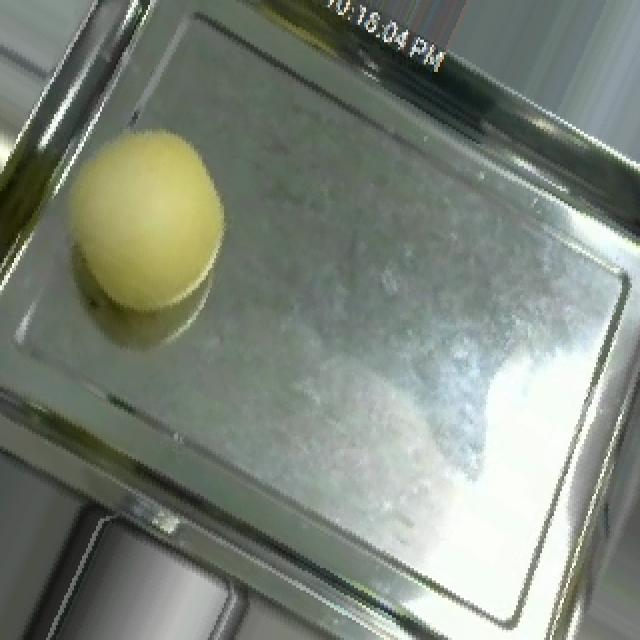Fruit: (26, 94, 256, 345)
